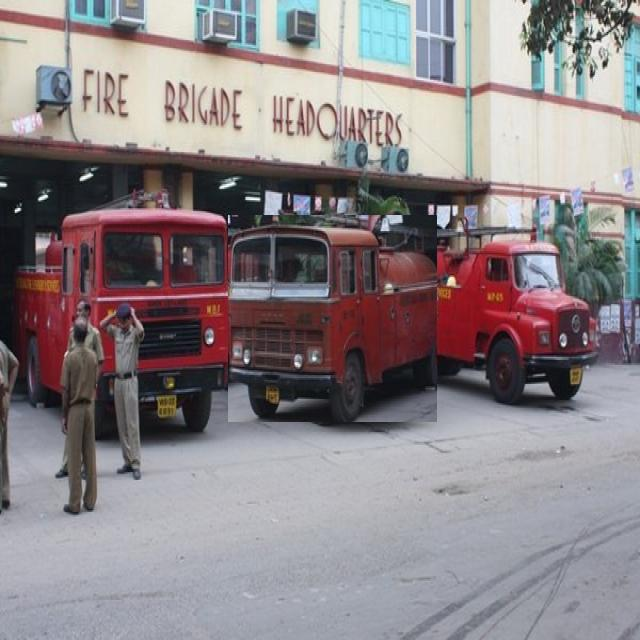emergency: (16, 208, 228, 429), (229, 215, 437, 422), (433, 227, 598, 402)
